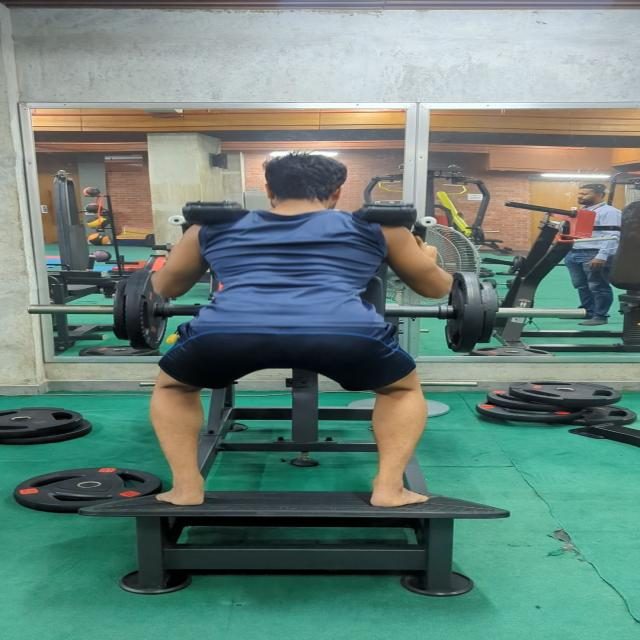Normal_SquatsWithBarbell: (126, 127, 506, 543)
